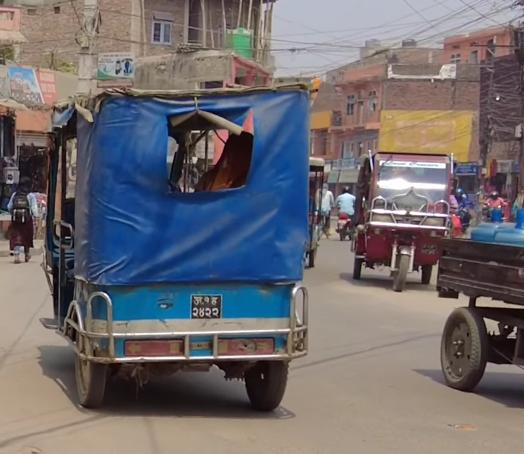e-rickshaw: (38, 78, 305, 415), (353, 146, 453, 291)
